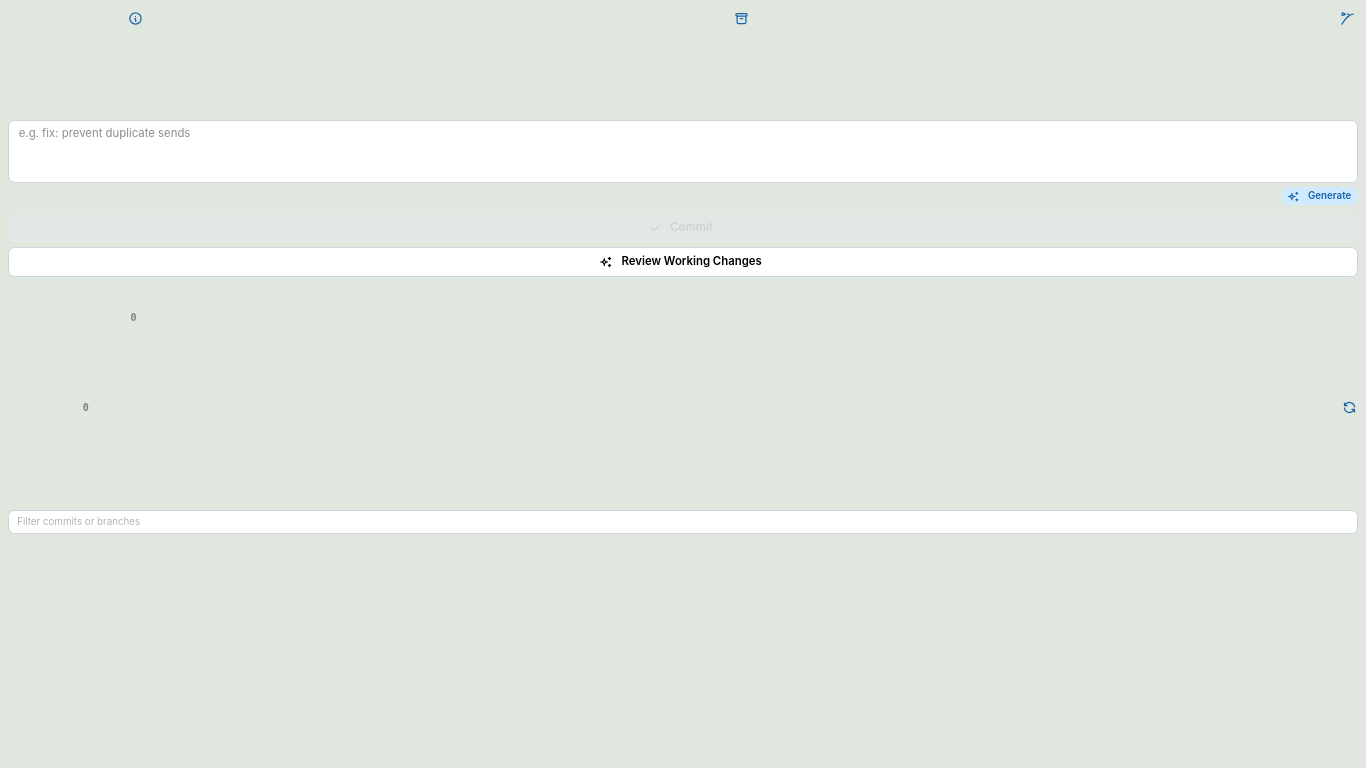
Test: SourceControlPanel staging › says how far ahead and behind the branch is, on the actions that act on it
The width and height of the screenshot is (1366, 768).
What coordinates should you click on to do the following:
click the button named "Remote actions"
I would click on:
 (1347, 18)
Its box is [1338,9,1356,27].
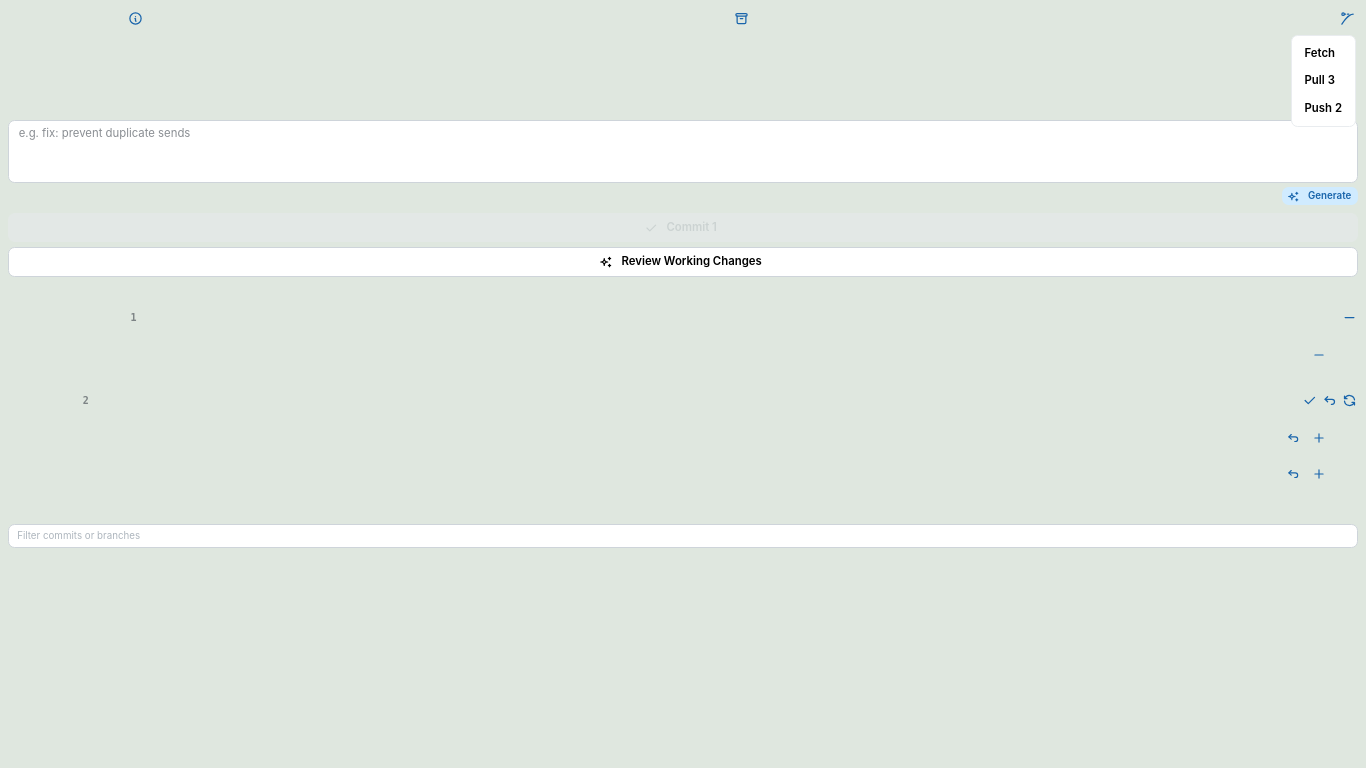
expect the menu item with test id "sc-pull" reads "Pull 3": met, box [1295,67,1352,95]
expect the menu item with test id "sc-push" reads "Push 2": met, box [1295,95,1352,123]
